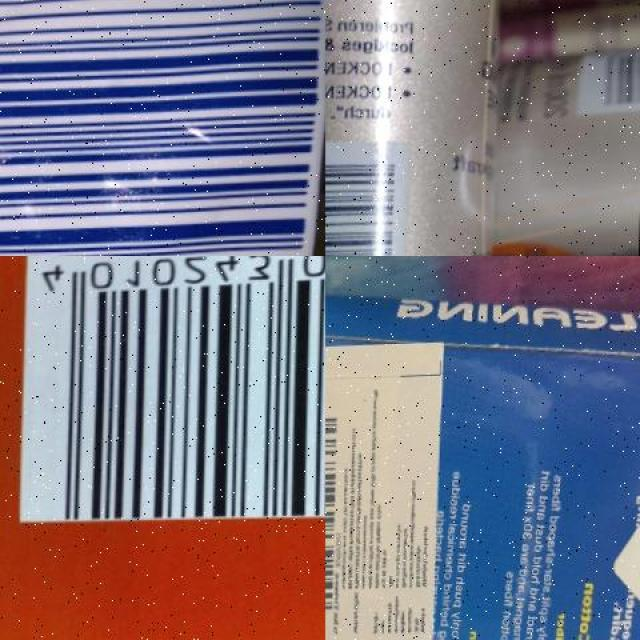Barcode: (9, 256, 326, 535), (0, 0, 325, 256), (325, 141, 407, 256), (325, 401, 344, 620)
